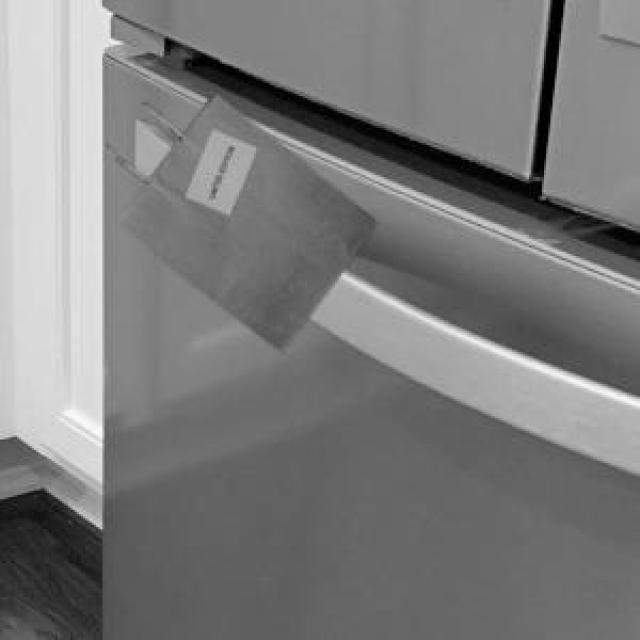paper: (111, 92, 371, 348)
